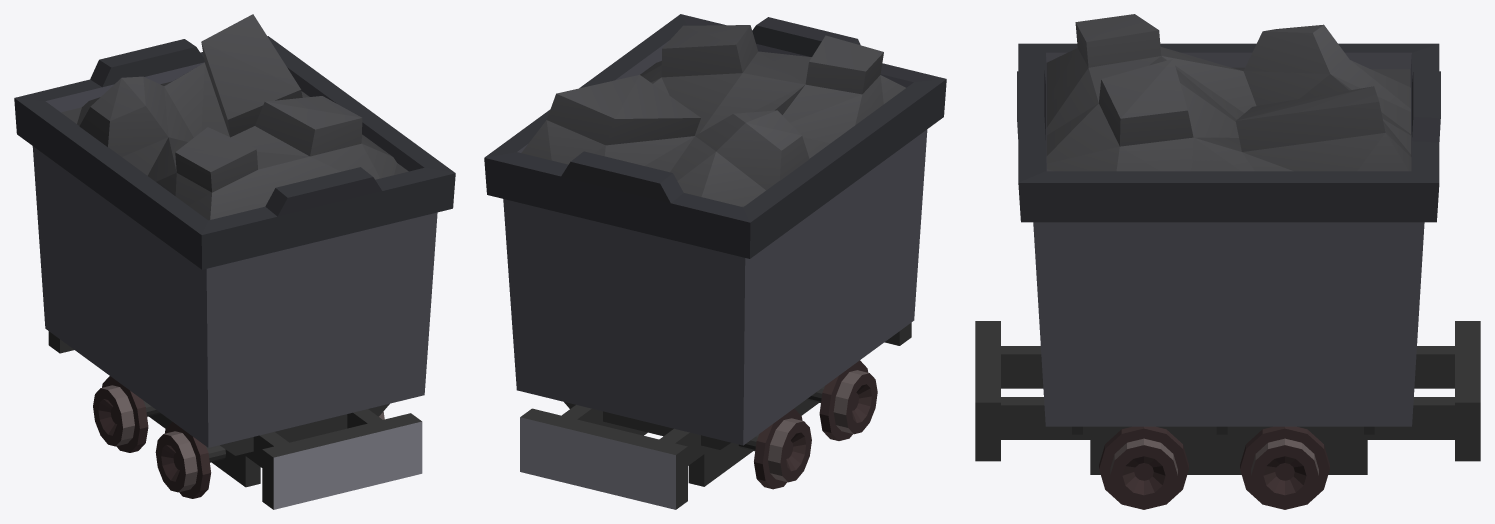
The model's file is Mines_Cart.glb.
3 views of the same model, side by side, from view 1: azimuth 30°, elevation 25°; view 2: azimuth 150°, elevation 25°; view 3: azimuth 270°, elevation 25° (orthographic). The views are drawn at different scales.
Parts seen in each view (by area): view 1: Mines Cart Coal; view 2: Mines Cart Coal; view 3: Mines Cart Coal.
Part boxes in pixels (x1,y1,x2,y2): Mines Cart Coal: (14, 14, 455, 509); Mines Cart Coal: (484, 14, 946, 509); Mines Cart Coal: (975, 14, 1480, 509).
Size of what is drawn, in the model's own units: 0.8355 by 1.14 by 1.28.
1 material, 1 textured.
